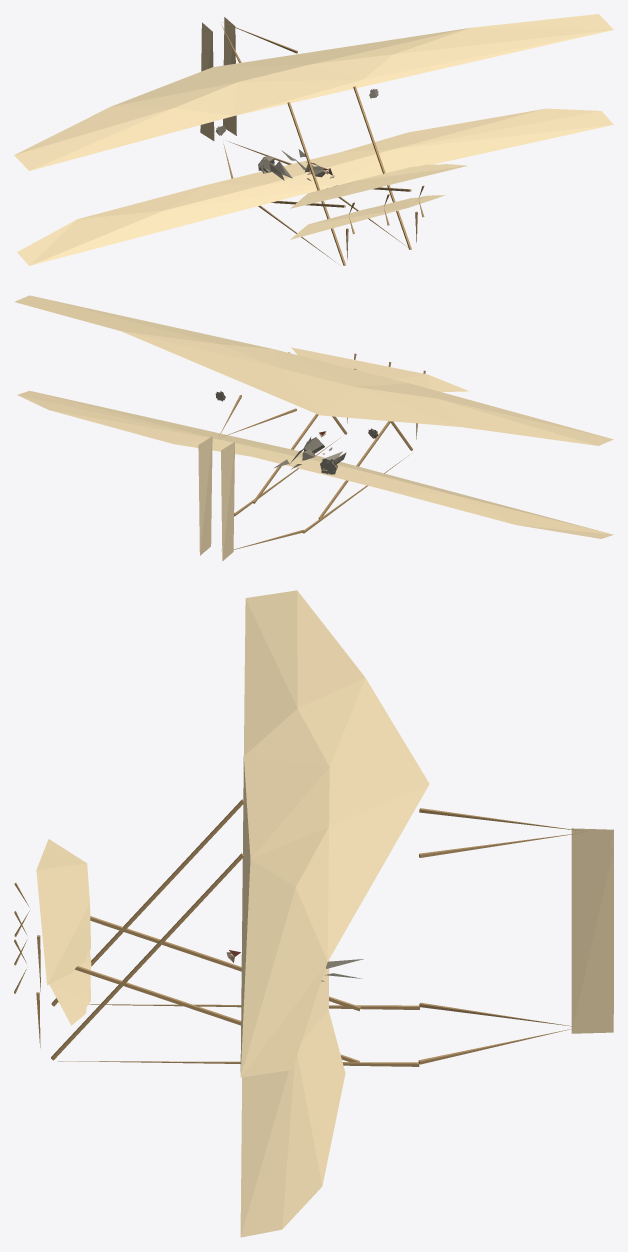
3 views of the same model, one above another, from view 1: azimuth 30°, elevation 25°; view 2: azimuth 150°, elevation 25°; view 3: azimuth 270°, elevation 25° (orthographic). The views are drawn at different scales.
Parts seen in each view (by area): view 1: cmjtorskin-FACES; view 2: cmjtorskin-FACES; view 3: cmjtorskin-FACES.
Part boxes in pixels (box(x1,y1,x2,y2)): cmjtorskin-FACES: box(14, 14, 613, 265); cmjtorskin-FACES: box(14, 295, 613, 561); cmjtorskin-FACES: box(14, 590, 613, 1237).
Bounding box in the file's own units: 1196 × 259 × 632.
